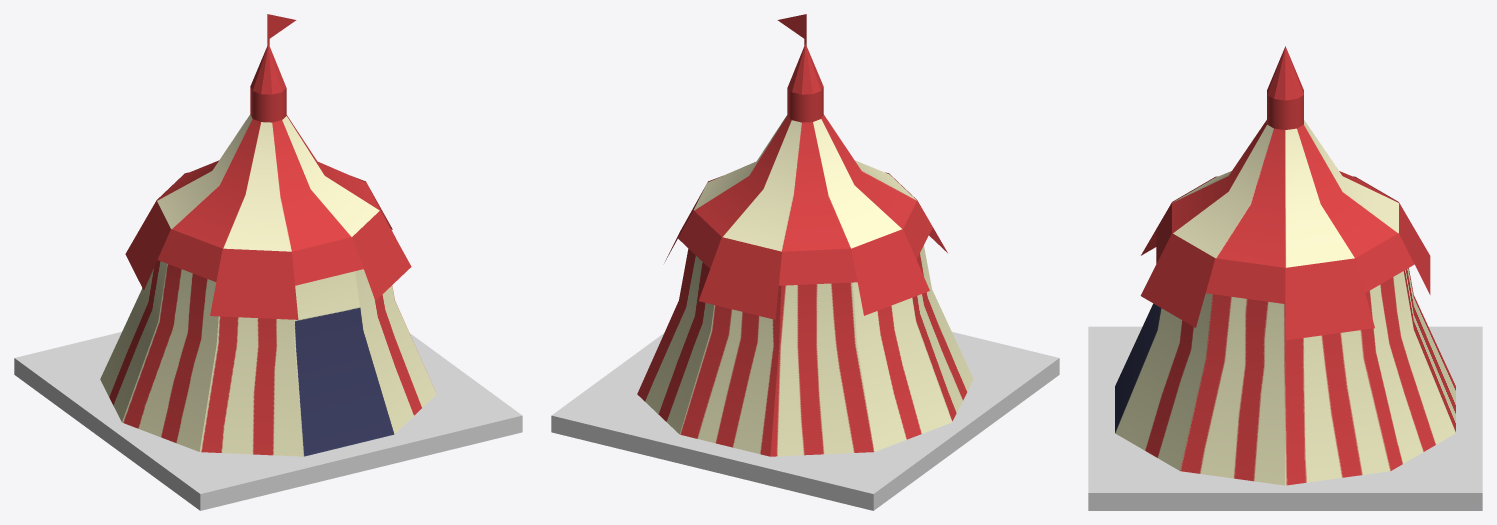
File: Circus01_1.FBX
3 views of the same model, side by side, from view 1: azimuth 30°, elevation 25°; view 2: azimuth 150°, elevation 25°; view 3: azimuth 270°, elevation 25° (orthographic). The views are drawn at different scales.
Parts seen in each view (by area): view 1: Plane001, Box001; view 2: Plane001, Box001; view 3: Plane001, Box001.
Boxes of the visible parts, left/top/right/bottom form: Plane001: left=100, top=14, right=436, bottom=456; Box001: left=14, top=332, right=522, bottom=510; Plane001: left=637, top=14, right=973, bottom=456; Box001: left=551, top=332, right=1059, bottom=510; Plane001: left=1115, top=46, right=1455, bottom=485; Box001: left=1088, top=326, right=1482, bottom=510.
Bounding box in the file's own units: 1 × 1.16 × 1.
Materials: 3 (3 with a texture image).
